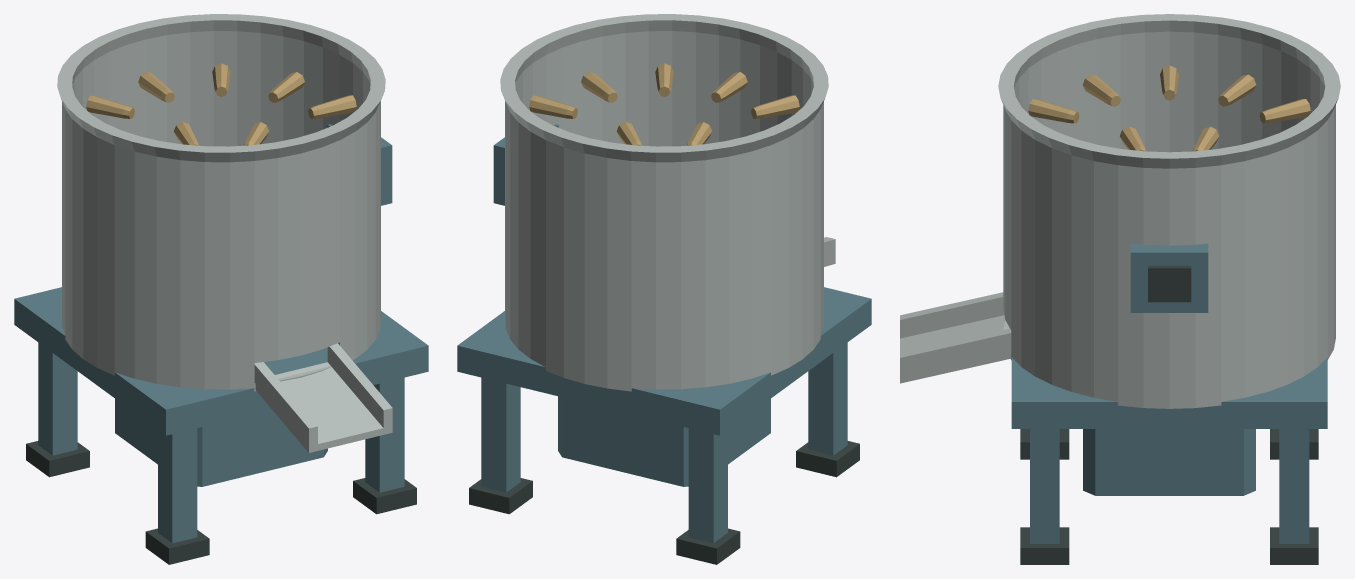
The picture shows the model from 3 angles, left to right: view 1: azimuth 30°, elevation 25°; view 2: azimuth 150°, elevation 25°; view 3: azimuth 270°, elevation 25°; orthographic projection. The views are drawn at different scales.
Parts seen in each view (by area): view 1: WholeOpenDrumWithLowFrontSlot, WholeSquareDriveDeck, WholeOpenSlopingOutletTrough, WholeLowerDriveCover, WholeUprightFrameLeg0, WholeUprightFrameLeg2, WholeUprightFrameLeg1, WholeGroundFoot0, WholeGroundFoot1, WholeGroundFoot2, WholeBlankSideControlBox, WholeWallFinger2_0 (+3 smaller); view 2: WholeOpenDrumWithLowFrontSlot, WholeSquareDriveDeck, WholeLowerDriveCover, WholeUprightFrameLeg2, WholeUprightFrameLeg3, WholeUprightFrameLeg0, WholeGroundFoot2, WholeGroundFoot3, WholeGroundFoot0, WholeBlankSideControlBox, WholeWallFinger2_0, WholeWallFinger2_8 (+2 smaller); view 3: WholeOpenDrumWithLowFrontSlot, WholeLowerDriveCover, WholeSquareDriveDeck, WholeOpenSlopingOutletTrough, WholeBlankSideControlBox, WholeUprightFrameLeg3, WholeUprightFrameLeg1, WholePlainControlFace, WholeGroundFoot1, WholeGroundFoot3, WholeWallFinger2_4, WholeWallFinger2_8 (+4 smaller).
Boxes of the visible parts, x1,y1,x2,y2 form: WholeOpenDrumWithLowFrontSlot: (57, 14, 385, 391); WholeSquareDriveDeck: (14, 287, 428, 435); WholeOpenSlopingOutletTrough: (254, 343, 392, 452); WholeLowerDriveCover: (115, 399, 327, 486); WholeUprightFrameLeg0: (158, 428, 197, 543); WholeUprightFrameLeg2: (38, 342, 77, 455); WholeUprightFrameLeg1: (365, 377, 404, 492); WholeGroundFoot0: (145, 528, 209, 564); WholeGroundFoot1: (353, 478, 416, 514); WholeGroundFoot2: (26, 441, 89, 477); WholeBlankSideControlBox: (327, 124, 392, 205); WholeWallFinger2_0: (308, 95, 356, 118); WholeOpenDrumWithLowFrontSlot: (500, 14, 828, 391); WholeSquareDriveDeck: (457, 287, 871, 435); WholeLowerDriveCover: (558, 396, 770, 486); WholeUprightFrameLeg2: (688, 428, 727, 543); WholeUprightFrameLeg3: (481, 377, 520, 492); WholeUprightFrameLeg0: (808, 342, 847, 455); WholeGroundFoot2: (676, 528, 740, 564); WholeGroundFoot3: (469, 478, 532, 514); WholeGroundFoot0: (796, 441, 859, 477); WholeBlankSideControlBox: (493, 124, 558, 205); WholeWallFinger2_0: (529, 95, 577, 118); WholeWallFinger2_8: (751, 95, 799, 118); WholeOpenDrumWithLowFrontSlot: (998, 14, 1340, 408); WholeLowerDriveCover: (1083, 429, 1255, 495); WholeSquareDriveDeck: (1011, 357, 1327, 428); WholeOpenSlopingOutletTrough: (900, 292, 1011, 383); WholeBlankSideControlBox: (1130, 243, 1208, 312); WholeUprightFrameLeg3: (1279, 429, 1309, 543); WholeUprightFrameLeg1: (1030, 429, 1059, 543); WholePlainControlFace: (1148, 265, 1191, 302); WholeGroundFoot1: (1020, 527, 1069, 564); WholeGroundFoot3: (1270, 527, 1318, 564); WholeWallFinger2_4: (1259, 99, 1310, 123); WholeWallFinger2_8: (1028, 99, 1079, 123).
Bounding box in the file's own units: 0.65 × 0.827 × 0.795.
